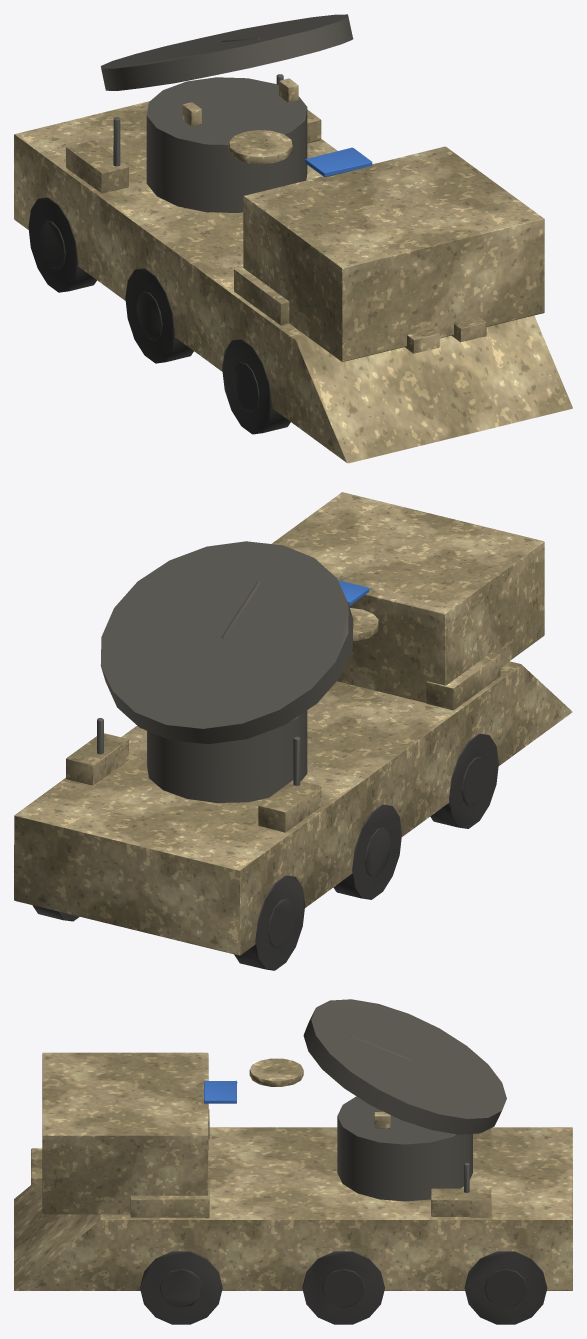
The model's file is rad_e4_us_illuminator_LOD1.glb.
3 renders of one model, top to bottom at view 1: azimuth 30°, elevation 25°; view 2: azimuth 150°, elevation 25°; view 3: azimuth 270°, elevation 25°, orthographic. The views are drawn at different scales.
Visible parts, largest first — view 1: rad_e4_us_illuminator_LOD1_body, rad_e4_us_illuminator_LOD1_deck, rad_e4_us_illuminator_LOD1_track, rad_e4_us_illuminator_LOD1_team; view 2: rad_e4_us_illuminator_LOD1_body, rad_e4_us_illuminator_LOD1_deck, rad_e4_us_illuminator_LOD1_track, rad_e4_us_illuminator_LOD1_gun; view 3: rad_e4_us_illuminator_LOD1_body, rad_e4_us_illuminator_LOD1_deck, rad_e4_us_illuminator_LOD1_track, rad_e4_us_illuminator_LOD1_team.
Part boxes in pixels (x1,y1,x2,y2): rad_e4_us_illuminator_LOD1_body: (14,78,572,463); rad_e4_us_illuminator_LOD1_deck: (100,14,353,212); rad_e4_us_illuminator_LOD1_track: (28,197,290,434); rad_e4_us_illuminator_LOD1_team: (305,147,372,177); rad_e4_us_illuminator_LOD1_body: (14,492,572,955); rad_e4_us_illuminator_LOD1_deck: (100,541,353,802); rad_e4_us_illuminator_LOD1_track: (32,733,498,970); rad_e4_us_illuminator_LOD1_gun: (97,718,300,785); rad_e4_us_illuminator_LOD1_body: (14,1052,572,1290); rad_e4_us_illuminator_LOD1_deck: (303,999,506,1201); rad_e4_us_illuminator_LOD1_track: (140,1251,547,1324); rad_e4_us_illuminator_LOD1_team: (204,1080,237,1103).
Size of the model in its own units: 2.94 by 3.77 by 7.39.
5 materials, 1 textured.
